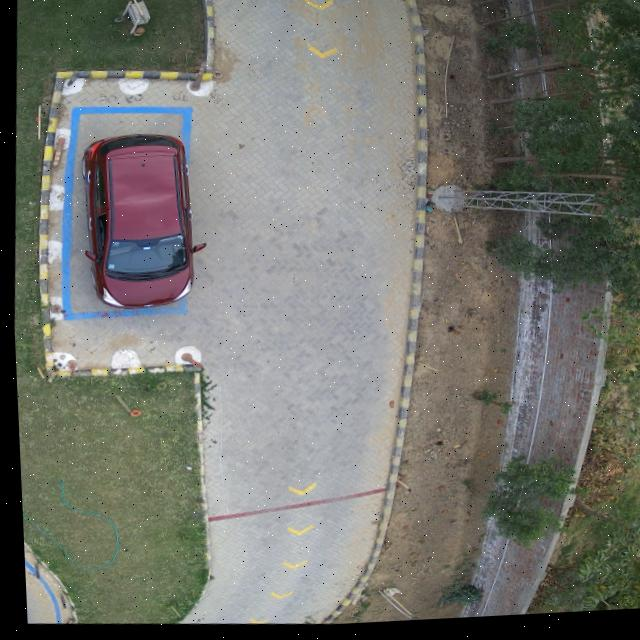car: (80, 136, 200, 310)
